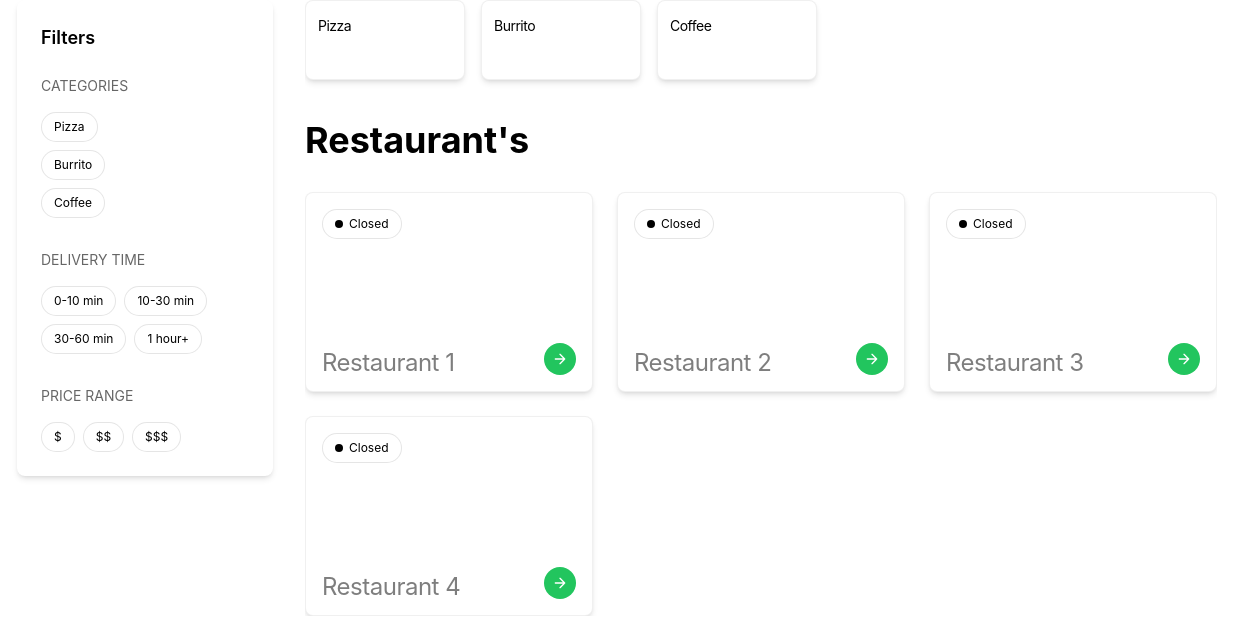
Test case: RestaurantList › should filter restaurants when selecting a filter
The width and height of the screenshot is (1234, 633).
Step 1. Click the button "Pizza" → (69, 127), box [41,112,98,142]
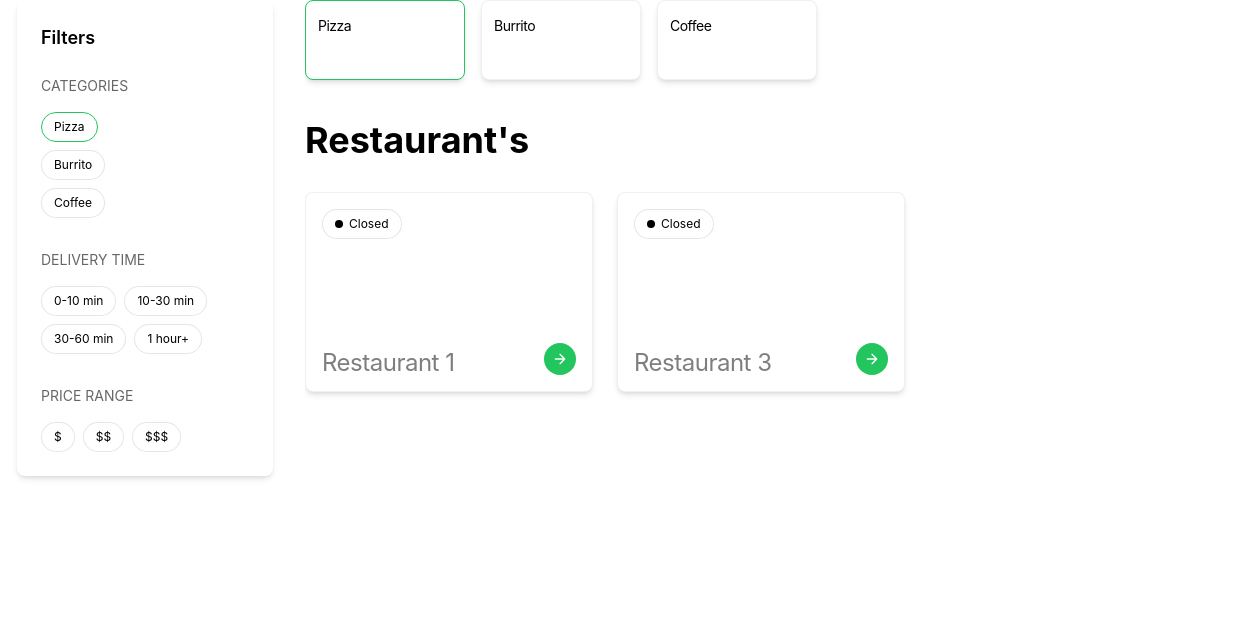
Expected: the heading "Restaurant 1" is shown, [322,348,454,377]
Expected: the heading "Restaurant 2" is gone
Expected: the heading "Restaurant 4" is gone
